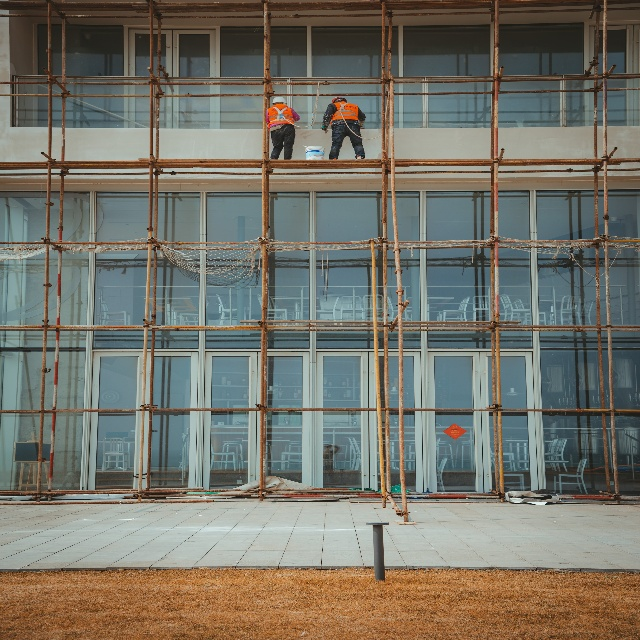Guantes: (321, 124, 328, 131)
